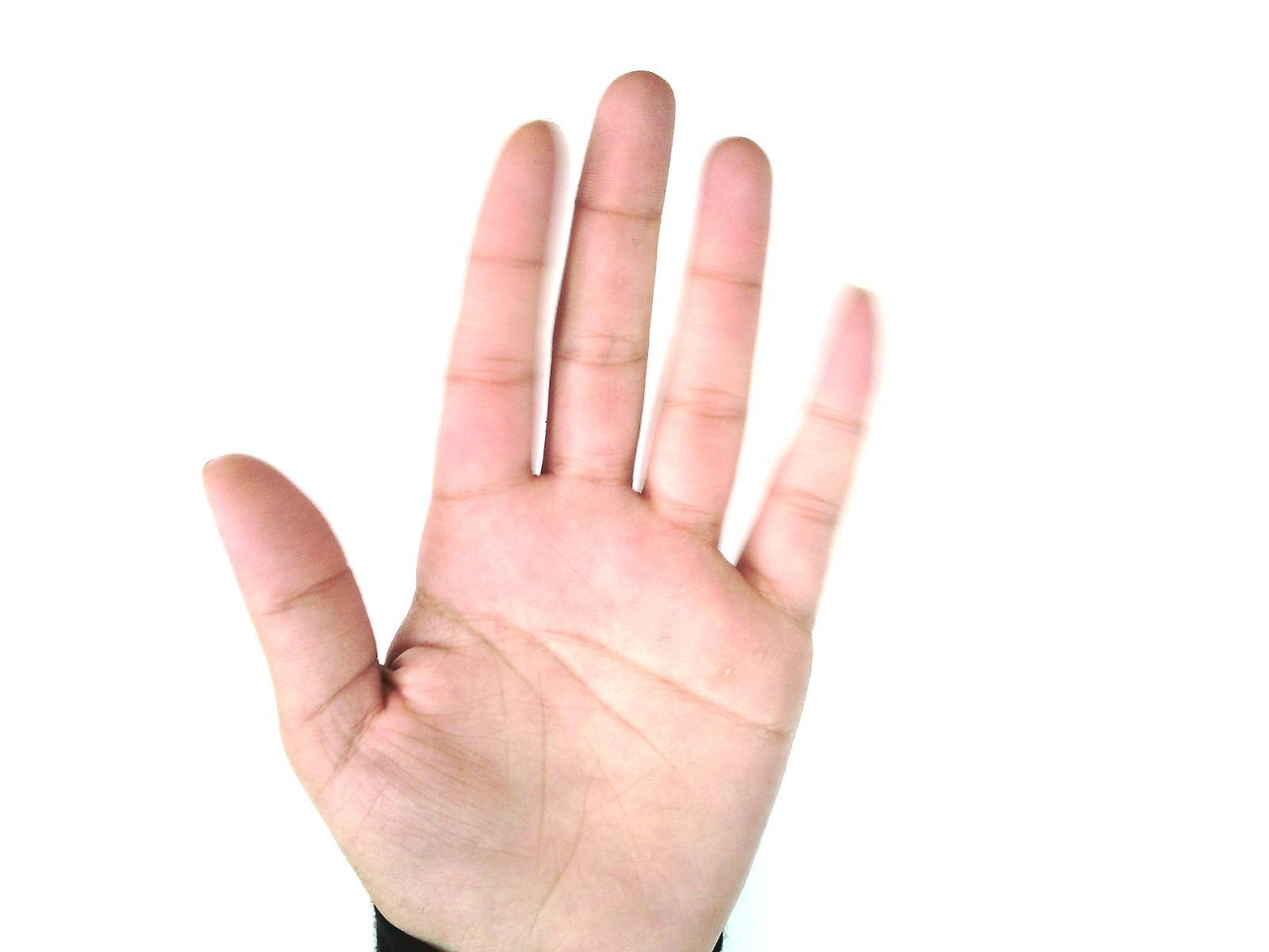open_palm: (200, 69, 887, 951)
